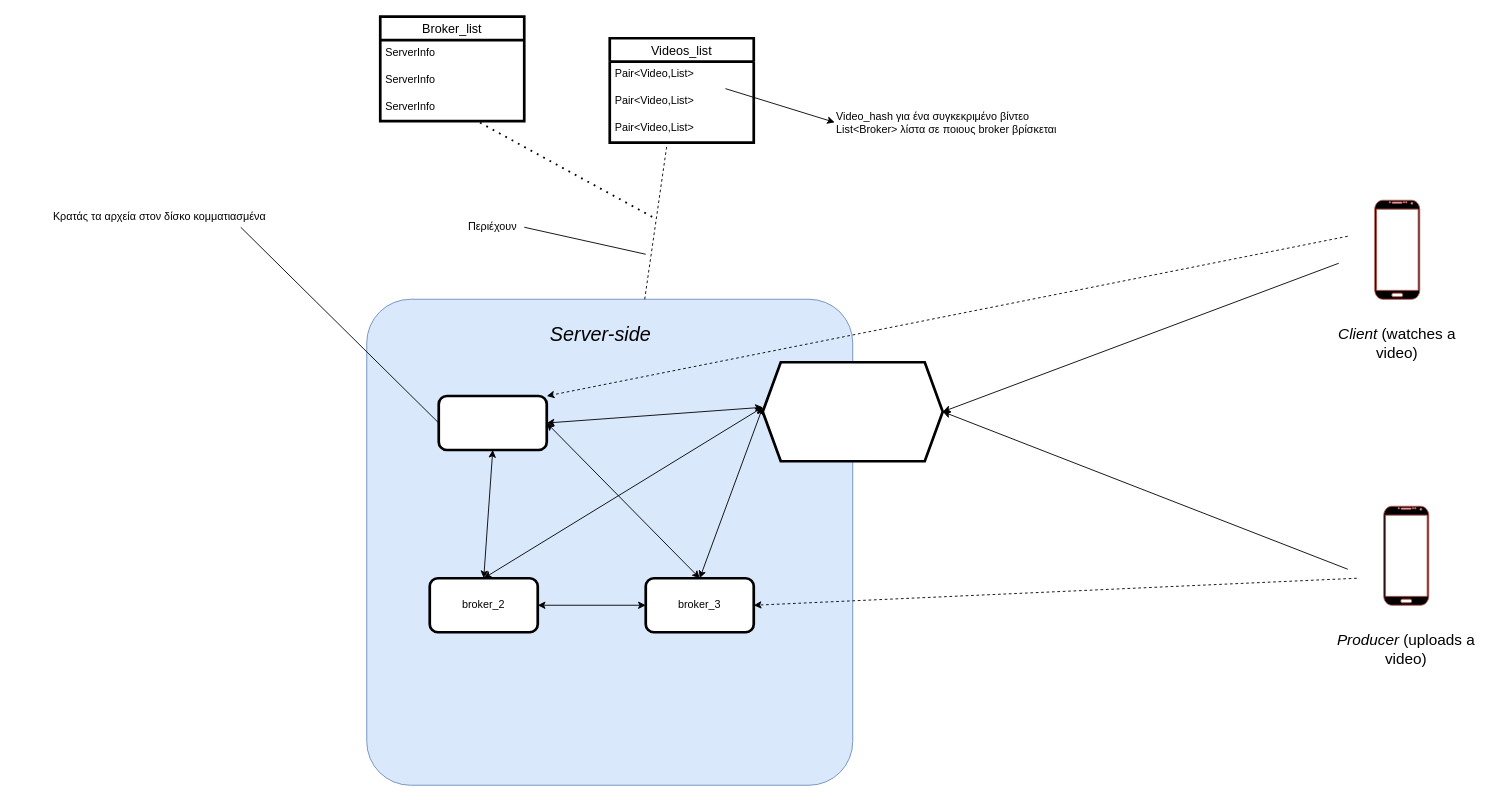
Some shapes in this 1498 by 801 pixel diagram are drawn without their labels. The centre of each missing label's shape, as x and y in pixels:
Application server: point (852, 411)
broker_1: point (492, 422)
